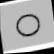no answer: (12, 9, 42, 41)
